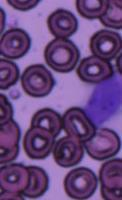L: (83, 72, 121, 126)
